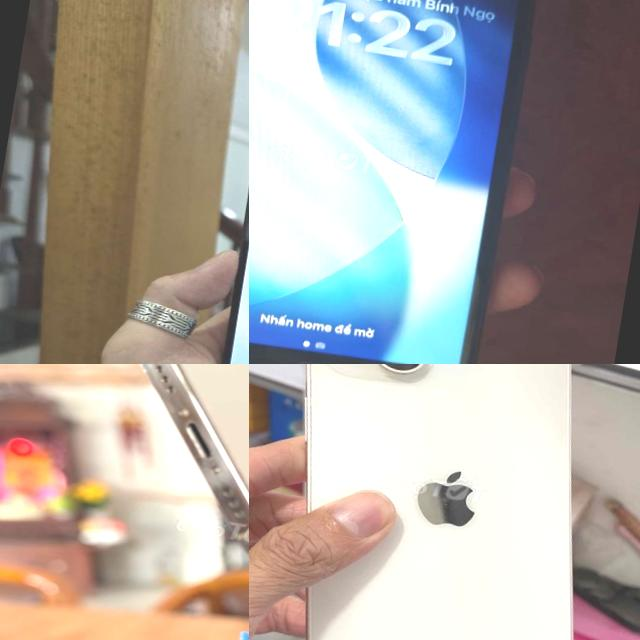gen_14: (249, 364, 640, 640), (81, 364, 249, 619)
